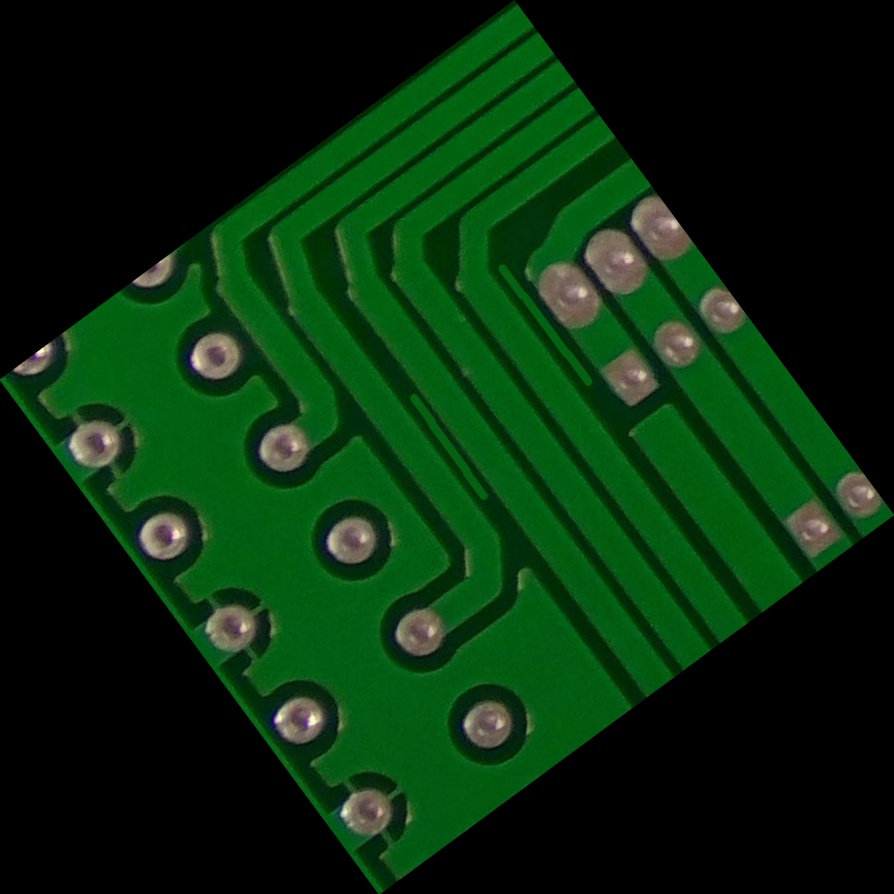spurious_copper: (390, 378, 504, 517)
